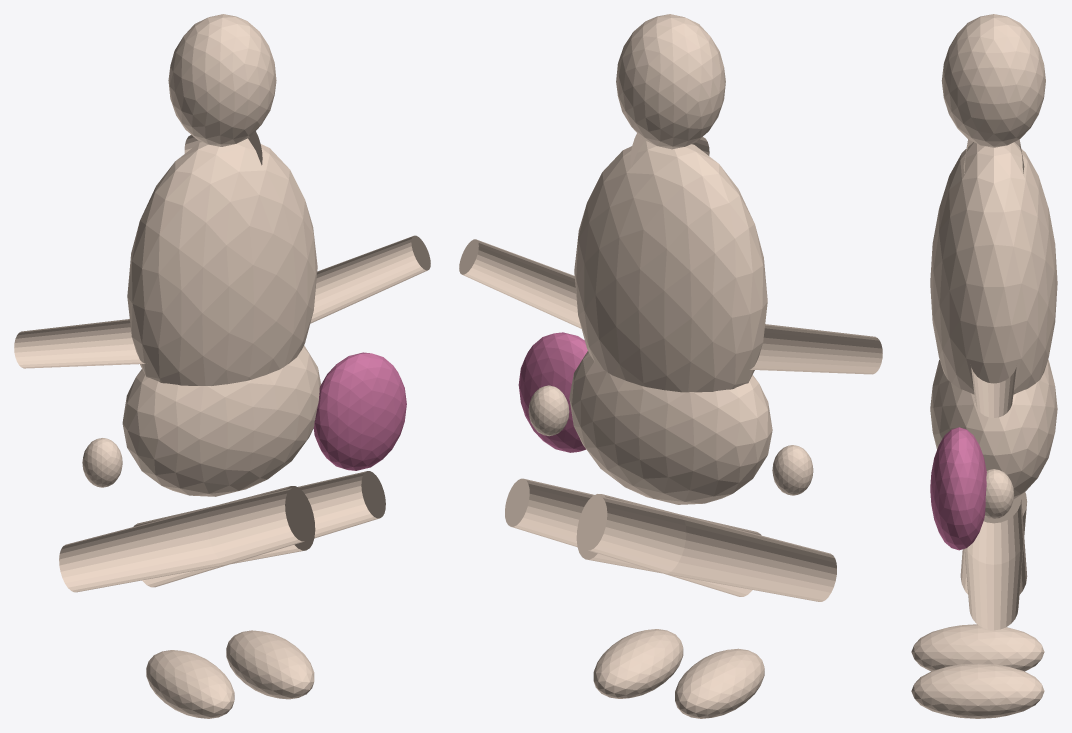
File: femenino-bolso.glb
3 renders of one model, left to right at view 1: azimuth 30°, elevation 25°; view 2: azimuth 150°, elevation 25°; view 3: azimuth 270°, elevation 25°, orthographic.
Visible parts, largest first — view 1: Avatar0, Avatar1, Avatar3, Avatar4, Avatar8, Prenda, Avatar10, Avatar6, Avatar9, Avatar5, Avatar7; view 2: Avatar0, Avatar1, Avatar3, Avatar4, Avatar8, Avatar10, Avatar6, Avatar9, Avatar5, Prenda, Avatar7, Avatar11; view 3: Avatar0, Avatar3, Avatar1, Avatar9, Prenda, Avatar5, Avatar8, Avatar4, Avatar10, Avatar11.
Boxes of the visible parts, x1,y1,x2,y2 form: Avatar0: (127, 138, 317, 385); Avatar1: (122, 345, 320, 496); Avatar3: (168, 14, 276, 146); Avatar4: (59, 486, 315, 592); Avatar8: (133, 471, 385, 587); Prenda: (313, 352, 406, 470); Avatar10: (310, 235, 430, 323); Avatar6: (14, 319, 145, 368); Avatar9: (226, 630, 314, 699); Avatar5: (146, 650, 234, 718); Avatar7: (82, 438, 122, 487); Avatar0: (574, 140, 767, 392); Avatar1: (569, 351, 772, 504); Avatar3: (616, 14, 725, 149); Avatar4: (576, 494, 836, 601); Avatar8: (505, 478, 761, 596); Avatar10: (459, 239, 581, 328); Avatar6: (750, 324, 882, 374); Avatar9: (593, 629, 683, 698); Avatar5: (675, 648, 764, 718); Prenda: (518, 332, 587, 452); Avatar7: (772, 445, 813, 495); Avatar11: (528, 385, 569, 436); Avatar0: (930, 142, 1057, 394); Avatar3: (941, 14, 1045, 147); Avatar1: (930, 360, 1057, 498); Avatar9: (911, 663, 1044, 718); Prenda: (930, 427, 986, 550); Avatar5: (911, 624, 1044, 671); Avatar8: (964, 492, 1027, 630); Avatar4: (960, 499, 1027, 594); Avatar10: (971, 365, 1016, 417); Avatar11: (985, 469, 1013, 518).
Bounding box in the file's own units: 1.61 × 2.58 × 0.505.
